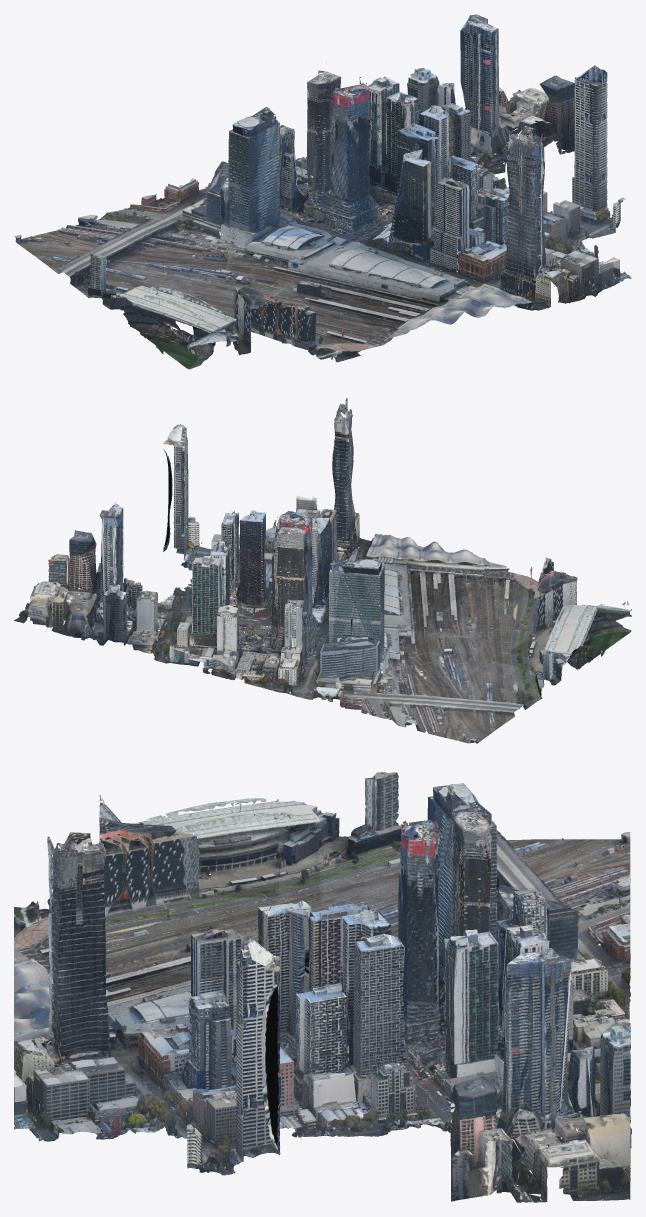
File: southern-cross-north.glb
The picture shows the model from 3 angles, top to bottom: view 1: azimuth 30°, elevation 25°; view 2: azimuth 150°, elevation 25°; view 3: azimuth 270°, elevation 25°; orthographic projection. The views are drawn at different scales.
Visible parts, largest first — view 1: I3S 280503, I3S 288770, I3S 220330, I3S 292532, I3S 254349, I3S 282345, I3S 247419, I3S 284568, I3S 274183, I3S 223505, I3S 284115, I3S 276178 (+16 smaller); view 2: I3S 282345, I3S 220330, I3S 223505, I3S 292532, I3S 284115, I3S 284568, I3S 289848, I3S 280503, I3S 229887, I3S 247419, I3S 289078, I3S 289401 (+13 smaller); view 3: I3S 220330, I3S 292532, I3S 254349, I3S 284115, I3S 247419, I3S 223505, I3S 231701, I3S 276178, I3S 228313, I3S 284568, I3S 288770, I3S 289848 (+16 smaller).
Part boxes in pixels (x1,y1,x2,y2): I3S 280503: (176, 107, 338, 300); I3S 288770: (336, 159, 487, 317); I3S 220330: (430, 14, 574, 174); I3S 292532: (130, 286, 293, 369); I3S 254349: (497, 125, 579, 310); I3S 282345: (119, 107, 280, 258); I3S 247419: (547, 65, 626, 242); I3S 284568: (14, 210, 176, 285); I3S 274183: (268, 62, 331, 224); I3S 223505: (367, 68, 478, 211); I3S 284115: (73, 253, 233, 326); I3S 276178: (329, 77, 406, 240); I3S 282345: (289, 550, 435, 717); I3S 220330: (14, 502, 160, 645); I3S 223505: (105, 541, 251, 666); I3S 292532: (485, 570, 631, 669); I3S 284115: (437, 634, 579, 707); I3S 284568: (382, 684, 527, 743); I3S 289848: (395, 583, 533, 646); I3S 280503: (344, 549, 486, 683); I3S 229887: (220, 510, 277, 642); I3S 247419: (163, 424, 221, 570); I3S 289078: (359, 534, 472, 586); I3S 289401: (448, 553, 553, 607); I3S 220330: (450, 948, 631, 1202); I3S 292532: (99, 794, 279, 917); I3S 254349: (14, 832, 104, 1103); I3S 284115: (275, 772, 401, 913); I3S 247419: (186, 937, 281, 1175); I3S 223505: (450, 925, 630, 1122); I3S 231701: (280, 903, 367, 1100); I3S 276178: (362, 819, 455, 1072); I3S 228313: (362, 940, 454, 1136); I3S 284568: (496, 830, 630, 915); I3S 288770: (106, 905, 279, 1065); I3S 289848: (105, 908, 257, 992).
Bounding box in the file's own units: 804 × 269 × 550.
Materials: 30 (30 with a texture image).
